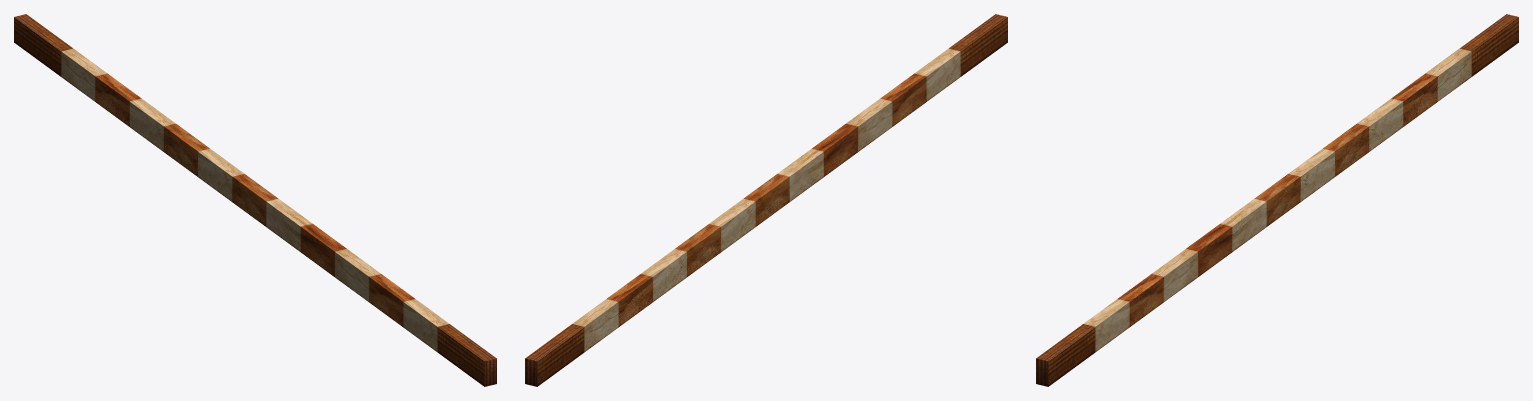
File: Grindrail01.gltf
3 renders of one model, left to right at view 1: azimuth 30°, elevation 25°; view 2: azimuth 150°, elevation 25°; view 3: azimuth 330°, elevation 25°, orthographic.
Parts seen in each view (by area): view 1: Grindrail01Mesh; view 2: Grindrail01Mesh; view 3: Grindrail01Mesh.
Boxes of the visible parts, x1,y1,x2,y2 form: Grindrail01Mesh: (14,14,496,386); Grindrail01Mesh: (525,14,1007,386); Grindrail01Mesh: (1036,14,1518,386).
Size of the model in its own units: 0.15 by 0.3 by 10.
2 materials, 2 textured.
